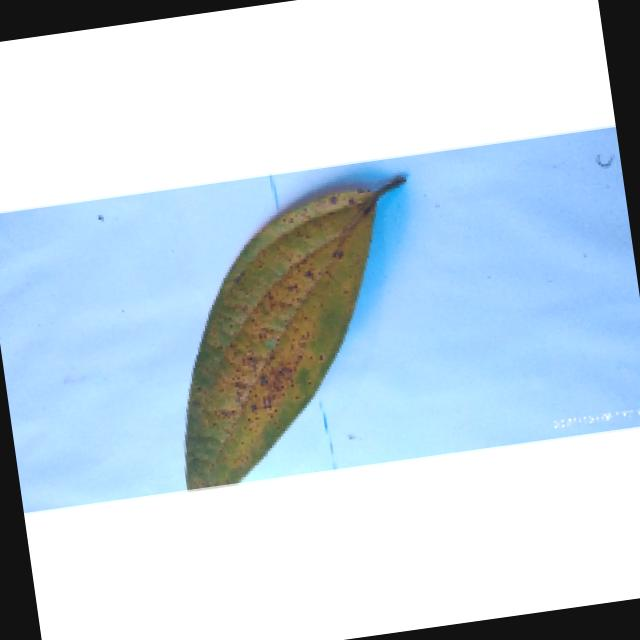slow-decline: (140, 164, 450, 494)
